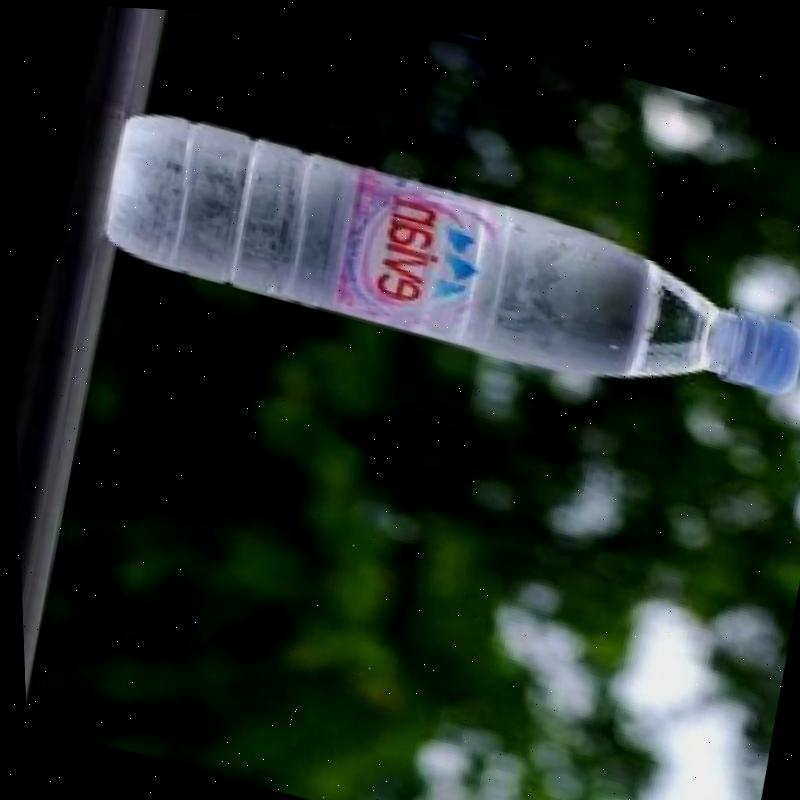botella: (87, 94, 800, 424)
